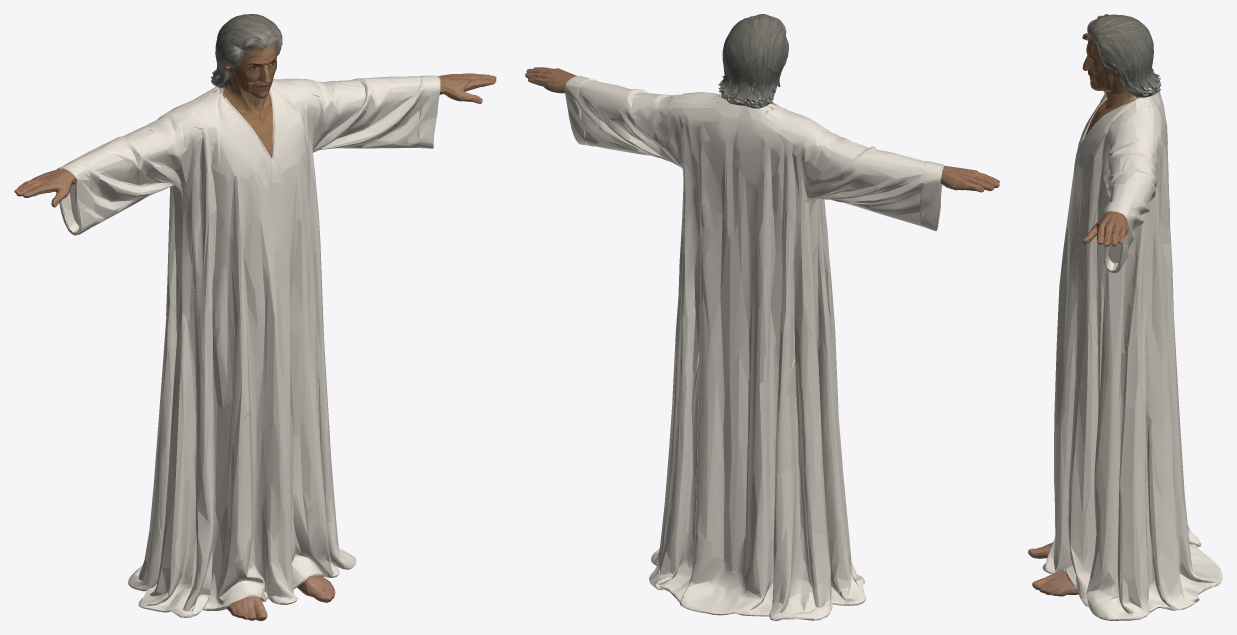
Rendered from moroni-remeshed.glb.
3 views of the same model, side by side, from view 1: azimuth 30°, elevation 25°; view 2: azimuth 150°, elevation 25°; view 3: azimuth 270°, elevation 25° (orthographic).
Visible parts, largest first — view 1: output_unwrapped; view 2: output_unwrapped; view 3: output_unwrapped.
Boxes of the visible parts, bbox=[...] form: output_unwrapped: bbox=[14, 14, 496, 620]; output_unwrapped: bbox=[525, 14, 999, 620]; output_unwrapped: bbox=[1028, 14, 1222, 620].
Bounding box in the file's own units: 1.69 × 1.9 × 0.604.
Materials: 1 (1 with a texture image).
